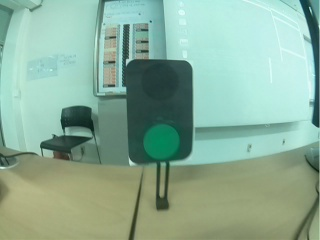green_light: (127, 59, 192, 160)
